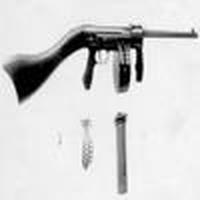gun: (2, 18, 200, 112)
